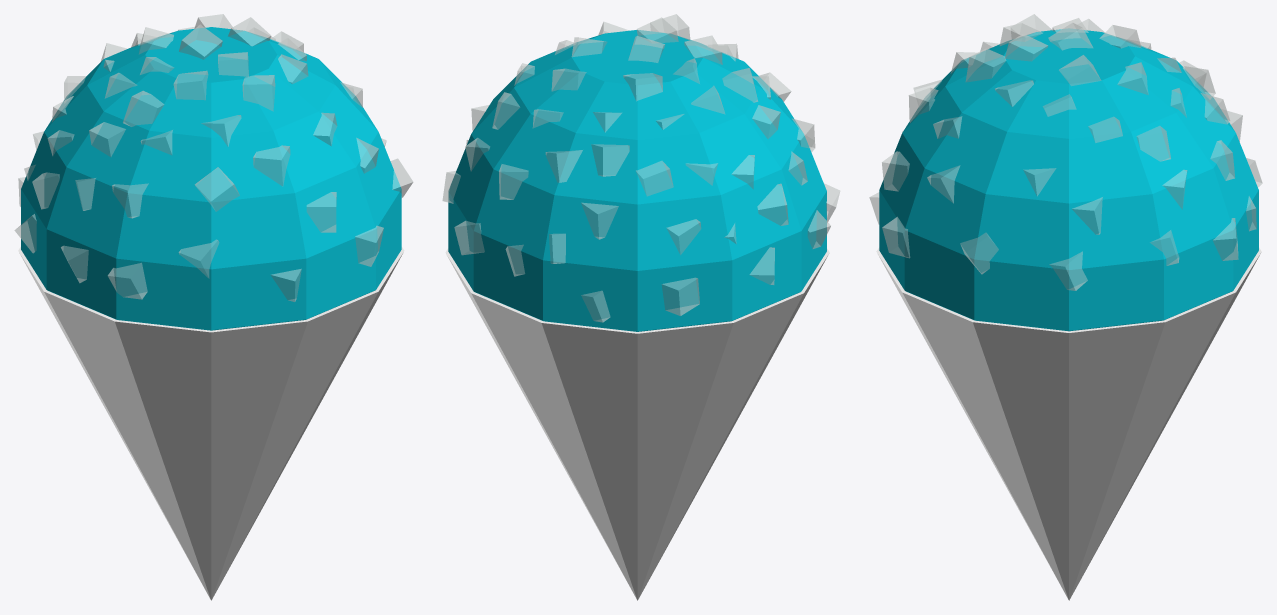
The model's file is snowcone.glb.
3 views of the same model, side by side, from view 1: azimuth 30°, elevation 25°; view 2: azimuth 150°, elevation 25°; view 3: azimuth 270°, elevation 25° (orthographic).
Visible parts, largest first — view 1: Node; view 2: Node; view 3: Node.
Boxes of the visible parts, x1,y1,x2,y2 form: Node: (14,14,412,600); Node: (442,14,840,600); Node: (869,14,1262,600).
Size of the model in its own units: 0.3995 by 0.638 by 0.3981.
